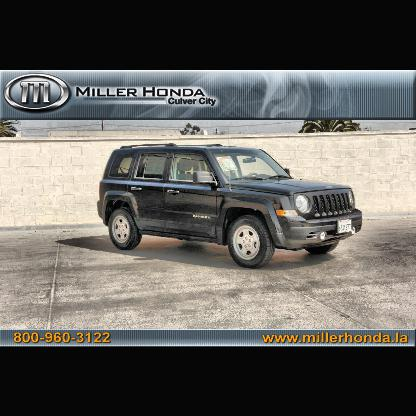Jeep Patriot SUV 2012: (97, 142, 365, 267)
